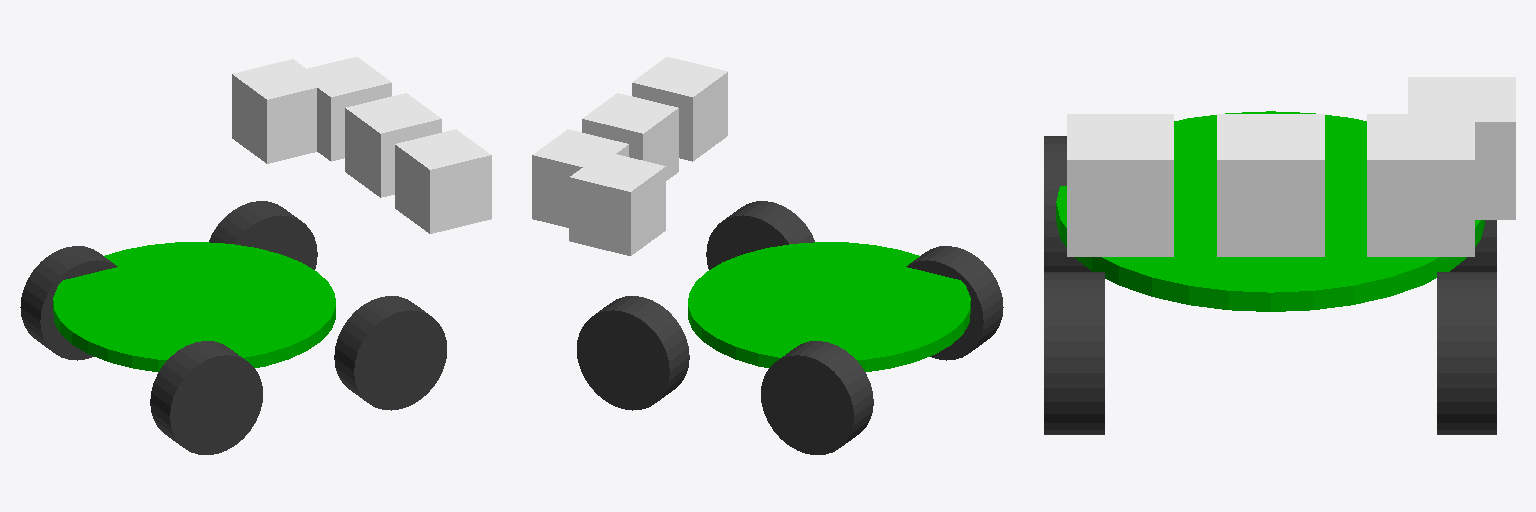
URDF robot description (multigo):
<?xml version="1.0" ?>
<robot name="multigo" xmlns:xacro="http://ros.org/wiki/xacro">

  <!-- Init colour -->
  <material name="black">
      <color rgba="0.0 0.0 0.0 1.0"/>
  </material>

  <material name="dark">
    <color rgba="0.3 0.3 0.3 1.0"/>
  </material>

  <material name="light_black">
    <color rgba="0.4 0.4 0.4 1.0"/>
  </material>

  <material name="blue">
    <color rgba="0.0 0.0 0.8 1.0"/>
  </material>

  <material name="green">
    <color rgba="0.0 0.8 0.0 1.0"/>
  </material>

  <material name="grey">
    <color rgba="0.5 0.5 0.5 1.0"/>
  </material>

  <material name="orange">
    <color rgba="1.0 0.4235 0.0392 1.0"/>
  </material>

  <material name="brown">
    <color rgba="0.8706 0.8118 0.7647 1.0"/>
  </material>

  <material name="red">
    <color rgba="0.8 0.0 0.0 1.0"/>
  </material>

  <material name="white">
    <color rgba="1.0 1.0 1.0 1.0"/>
  </material>

  <!-- Base Footprint -->
  <link name="base_footprint"/>

  <joint name="base_joint" type="fixed">
    <parent link="base_footprint"/>
    <child link="base_link" />
    <origin xyz="0 0 0.010" rpy="0 0 0"/>
  </joint>

  <!-- Base Link -->
  <link name="base_link">
    <inertial>
      <pose>0.000602 0 0.476823 0 -0 0</pose>
      <mass>50.435</mass>
      <inertia>
        <ixx>3.02781</ixx>
        <ixy>0</ixy>
        <ixz>-0.012125</ixz>
        <iyy>3.43197</iyy>
        <iyz>0</iyz>
        <izz>0.968001</izz>
      </inertia>
    </inertial>

    <collision name="base_collision">
      <pose>0.15 0 0.002 -0.0 -0.0 1.57</pose>
      <geometry>
        <mesh>
          <uri>model://multigo/meshes/multigo.stl</uri>
          <scale>0.001 0.001 0.001</scale>
        </mesh>
      </geometry>
    </collision>

    <visual name="base_visual">
      <pose>0.15 0 0.002 -0.0 -0.0 1.57</pose>
      <geometry>
        <mesh>
          <uri>model://multigo/meshes/multigo.stl</uri>
          <scale>0.001 0.001 0.001</scale>
        </mesh>
      </geometry>
      <material>
        <ambient>0.8392 0.6314 0 1</ambient>
        <diffuse>0.8392 0.6314 0 1</diffuse>
        <specular>0.99 0.99 0.99 1</specular>
        <emissive>0 0 0 0</emissive>
      </material>
    </visual>
  </link>

  <!-- Odometry Link -->
  <link name="odom"/>

  <!-- Fixed Joint from odom to base_footprint -->
  <joint name="odom_to_base" type="fixed">
    <parent link="odom"/>
    <child link="base_footprint"/>
    <origin xyz="0 0 0" rpy="0 0 0"/>
  </joint>


  <!-- Front Left Wheel -->
  <joint name="front_left_wheel_joint" type="revolute">
    <parent link="base_link"/>
    <child link="front_left_wheel_link"/>
    <origin xyz="0.15 0.183 0.076" rpy="0 0 0"/>
    <axis xyz="0 1 0"/>
    <limit lower="-1e+16" upper="1e+16" effort="100" velocity="100"/>
    <dynamics damping="0.0" friction="0.0"/>
  </joint>

  <link name="front_left_wheel_link">
    <visual>
      <origin xyz="0 0 0" rpy="1.5708 0 0"/>
      <geometry>
        <cylinder length="0.056" radius="0.076"/>
      </geometry>
      <material name="dark"/>
    </visual>

    <collision>
      <origin xyz="0 0 0" rpy="1.5708 0 0"/>
      <geometry>
        <cylinder length="0.056" radius="0.076"/>
      </geometry>
    </collision>

    <inertial>
      <origin xyz="0 0 0" rpy="0 0 0"/>
      <mass value="0.6"/>
      <inertia ixx="0.00138624" ixy="0" ixz="0" iyy="0.00138624" iyz="0" izz="0.00138624"/>
    </inertial>
  </link>

  <!-- Front Right Wheel -->
  <joint name="front_right_wheel_joint" type="revolute">
    <parent link="base_link"/>
    <child link="front_right_wheel_link"/>
    <origin xyz="0.15 -0.183 0.076" rpy="0 0 0"/>
    <axis xyz="0 1 0"/>
    <limit lower="-1e+16" upper="1e+16" effort="100" velocity="100"/>
    <dynamics damping="0.0" friction="0.0"/>
  </joint>

  <link name="front_right_wheel_link">
    <visual>
      <origin xyz="0 0 0" rpy="1.5708 0 0"/>
      <geometry>
        <cylinder length="0.056" radius="0.076"/>
      </geometry>
      <material name="dark"/>
    </visual>

    <collision>
      <origin xyz="0 0 0" rpy="1.5708 0 0"/>
      <geometry>
        <cylinder length="0.056" radius="0.076"/>
      </geometry>
    </collision>

    <inertial>
      <origin xyz="0 0 0" rpy="0 0 0"/>
      <mass value="0.6"/>
      <inertia ixx="0.00138624" ixy="0" ixz="0" iyy="0.00138624" iyz="0" izz="0.00138624"/>
    </inertial>
  </link>

  <!-- Rear Left Wheel -->
  <joint name="rear_left_wheel_joint" type="revolute">
    <parent link="base_link"/>
    <child link="rear_left_wheel_link"/>
    <origin xyz="-0.15 0.183 0.076" rpy="0 0 0"/>
    <axis xyz="0 1 0"/>
    <limit lower="-1e+16" upper="1e+16" effort="100" velocity="100"/>
    <dynamics damping="0.0" friction="0.0"/>
  </joint>

  <link name="rear_left_wheel_link">
    <visual>
      <origin xyz="0 0 0" rpy="1.5708 0 0"/>
      <geometry>
        <cylinder length="0.056" radius="0.076"/>
      </geometry>
      <material name="dark"/>
    </visual>

    <collision>
      <origin xyz="0 0 0" rpy="1.5708 0 0"/>
      <geometry>
        <cylinder length="0.056" radius="0.076"/>
      </geometry>
    </collision>

    <inertial>
      <origin xyz="0 0 0" rpy="0 0 0"/>
      <mass value="0.6"/>
      <inertia ixx="0.00138624" ixy="0" ixz="0" iyy="0.00138624" iyz="0" izz="0.00138624"/>
    </inertial>
  </link>

  <!-- Rear Right Wheel -->
  <joint name="rear_right_wheel_joint" type="revolute">
    <parent link="base_link"/>
    <child link="rear_right_wheel_link"/>
    <origin xyz="-0.15 -0.183 0.076" rpy="0 0 0"/>
    <axis xyz="0 1 0"/>
    <limit lower="-1e+16" upper="1e+16" effort="100" velocity="100"/>
    <dynamics damping="0.0" friction="0.0"/>
  </joint>

  <link name="rear_right_wheel_link">
    <visual>
      <origin xyz="0 0 0" rpy="1.5708 0 0"/>
      <geometry>
        <cylinder length="0.056" radius="0.076"/>
      </geometry>
      <material name="dark"/>
    </visual>

    <collision>
      <origin xyz="0 0 0" rpy="1.5708 0 0"/>
      <geometry>
        <cylinder length="0.056" radius="0.076"/>
      </geometry>
    </collision>

    <inertial>
      <origin xyz="0 0 0" rpy="0 0 0"/>
      <mass value="0.6"/>
      <inertia ixx="0.00138624" ixy="0" ixz="0" iyy="0.00138624" iyz="0" izz="0.00138624"/>
    </inertial>
  </link>

  <!-- LIDAR Joint -->
  <joint name="scan_joint" type="fixed">
    <parent link="base_link"/>
    <child link="base_scan"/>
    <origin xyz="-0.064 0 0.122" rpy="0 0 0"/>
  </joint>

  <link name="base_scan">
    <visual>
      <origin xyz="0 0 0" rpy="0 0 0"/>
      <geometry>
        <cylinder length="0.02" radius="0.2"/>
      </geometry>
      <material name="green"/>
    </visual>

    <collision>
      <origin xyz="0 0 0" rpy="0 0 0"/>
      <geometry>
        <cylinder length="0.02" radius="0.2"/>
      </geometry>
    </collision>

    <inertial>
      <origin xyz="0 0 0" rpy="0 0 0"/>
      <mass value="0.5"/>
      <inertia ixx="0.005" ixy="0" ixz="0" iyy="0.005" iyz="0" izz="0.005"/>
    </inertial>
  </link>

  <!-- Camera Joint -->
  <joint name="camera_joint" type="fixed">
    <parent link="base_link"/>
    <child link="camera_link"/>
    <origin xyz="0.26 0.0 0.30" rpy="0 0 0"/>
  </joint>

  <link name="camera_link">
    <visual>
      <origin xyz="0 0 0" rpy="0 0 0"/>
      <geometry>
        <box size="0.1 0.1 0.1"/>
      </geometry>
      <material name="white"/>
    </visual>

    <collision>
      <origin xyz="0 0 0" rpy="0 0 0"/>
      <geometry>
        <box size="0.1 0.1 0.1"/>
      </geometry>
    </collision>

    <inertial>
      <origin xyz="0 0 0" rpy="0 0 0"/>
      <mass value="0.5"/>
      <inertia ixx="0.005" ixy="0" ixz="0" iyy="0.005" iyz="0" izz="0.005"/>
    </inertial>
  </link>

   <!-- Front Camera -->
  <joint name="camera_front_joint" type="fixed">
    <parent link="camera_link"/>
    <child link="camera_front_frame"/>
    <origin xyz="-0.082 0.178 0.0" rpy="0 0 0"/>
  </joint>

  <link name="camera_front_frame">
    <visual>
      <origin xyz="0 0 0" rpy="0 0 0"/>
      <geometry>
        <box size="0.1 0.1 0.1"/>
      </geometry>
      <material name="white"/>
    </visual>

    <collision>
      <origin xyz="0 0 0" rpy="0 0 0"/>
      <geometry>
        <box size="0.1 0.1 0.1"/>
      </geometry>
    </collision>

    <inertial>
      <origin xyz="0 0 0" rpy="0 0 0"/>
      <mass value="0.5"/>
      <inertia ixx="0.005" ixy="0" ixz="0" iyy="0.005" iyz="0" izz="0.005"/>
    </inertial>
  </link>

  <!-- Left Camera -->
  <joint name="camera_left_joint" type="fixed">
    <parent link="camera_link"/>
    <child link="camera_left_frame"/>
    <origin xyz="0.0 0.14 0.0" rpy="0 0 1.57"/>
  </joint>

  <link name="camera_left_frame">
    <visual>
      <origin xyz="0 0 0" rpy="0 0 0"/>
      <geometry>
        <box size="0.1 0.1 0.1"/>
      </geometry>
      <material name="white"/>
    </visual>

    <collision>
      <origin xyz="0 0 0" rpy="0 0 0"/>
      <geometry>
        <box size="0.1 0.1 0.1"/>
      </geometry>
    </collision>

    <inertial>
      <origin xyz="0 0 0" rpy="0 0 0"/>
      <mass value="0.5"/>
      <inertia ixx="0.005" ixy="0" ixz="0" iyy="0.005" iyz="0" izz="0.005"/>
    </inertial>
  </link>

  <!-- Right Camera -->
  <joint name="camera_right_joint" type="fixed">
    <parent link="camera_link"/>
    <child link="camera_right_frame"/>
    <origin xyz="0.0 -0.14 0.0" rpy="0 0 -1.57"/>
  </joint>

  <link name="camera_right_frame">
    <visual>
      <origin xyz="0 0 0" rpy="0 0 0"/>
      <geometry>
        <box size="0.1 0.1 0.1"/>
      </geometry>
      <material name="white"/>
    </visual>

    <collision>
      <origin xyz="0 0 0" rpy="0 0 0"/>
      <geometry>
        <box size="0.1 0.1 0.1"/>
      </geometry>
    </collision>

    <inertial>
      <origin xyz="0 0 0" rpy="0 0 0"/>
      <mass value="0.5"/>
      <inertia ixx="0.005" ixy="0" ixz="0" iyy="0.005" iyz="0" izz="0.005"/>
    </inertial>
  </link>

</robot>

--- Render facts (derived) ---
The picture shows the robot from 3 angles, left to right: view 1: azimuth 30°, elevation 25°; view 2: azimuth 150°, elevation 25°; view 3: azimuth 270°, elevation 25°; orthographic projection.
Robot: multigo — 12 links, 11 joints (4 revolute, 7 fixed); root link odom; default pose: every joint at zero.
Links seen in each view (by area): view 1: base_scan, front_right_wheel_link, rear_right_wheel_link, camera_right_frame, camera_front_frame, camera_link, rear_left_wheel_link, camera_left_frame, front_left_wheel_link; view 2: base_scan, front_left_wheel_link, rear_left_wheel_link, camera_front_frame, camera_right_frame, camera_link, rear_right_wheel_link, camera_left_frame, front_right_wheel_link; view 3: base_scan, camera_link, camera_right_frame, camera_left_frame, front_right_wheel_link, front_left_wheel_link, camera_front_frame, rear_right_wheel_link, rear_left_wheel_link.
Link boxes in pixels (x1=…): base_scan: x1=53, y1=242, x2=335, y2=371; front_right_wheel_link: x1=334, y1=296, x2=446, y2=410; rear_right_wheel_link: x1=150, y1=341, x2=262, y2=454; camera_right_frame: x1=395, y1=129, x2=491, y2=233; camera_front_frame: x1=232, y1=59, x2=327, y2=163; camera_link: x1=345, y1=93, x2=441, y2=197; rear_left_wheel_link: x1=20, y1=246, x2=117, y2=360; camera_left_frame: x1=308, y1=57, x2=391, y2=161; front_left_wheel_link: x1=209, y1=201, x2=317, y2=269; base_scan: x1=688, y1=242, x2=970, y2=371; front_left_wheel_link: x1=577, y1=296, x2=689, y2=410; rear_left_wheel_link: x1=761, y1=341, x2=873, y2=454; camera_front_frame: x1=569, y1=151, x2=665, y2=255; camera_right_frame: x1=632, y1=57, x2=727, y2=161; camera_link: x1=582, y1=93, x2=678, y2=180; rear_right_wheel_link: x1=906, y1=246, x2=1003, y2=360; camera_left_frame: x1=532, y1=129, x2=628, y2=227; front_right_wheel_link: x1=706, y1=201, x2=814, y2=269; base_scan: x1=1056, y1=111, x2=1484, y2=311; camera_link: x1=1217, y1=114, x2=1324, y2=256; camera_right_frame: x1=1067, y1=114, x2=1173, y2=256; camera_left_frame: x1=1367, y1=114, x2=1474, y2=256; front_right_wheel_link: x1=1044, y1=272, x2=1104, y2=434; front_left_wheel_link: x1=1437, y1=272, x2=1496, y2=434; camera_front_frame: x1=1408, y1=77, x2=1515, y2=219; rear_right_wheel_link: x1=1044, y1=136, x2=1091, y2=271; rear_left_wheel_link: x1=1450, y1=220, x2=1496, y2=271.
Bounding box of the posed robot: 0.574 × 0.439 × 0.35 m (x, y, z).
Geometry: primitives only (box / cylinder / sphere), no mesh files.